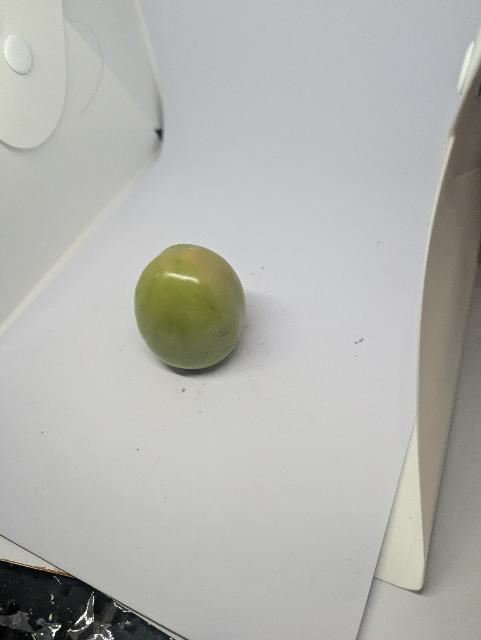green: (125, 231, 260, 385)
